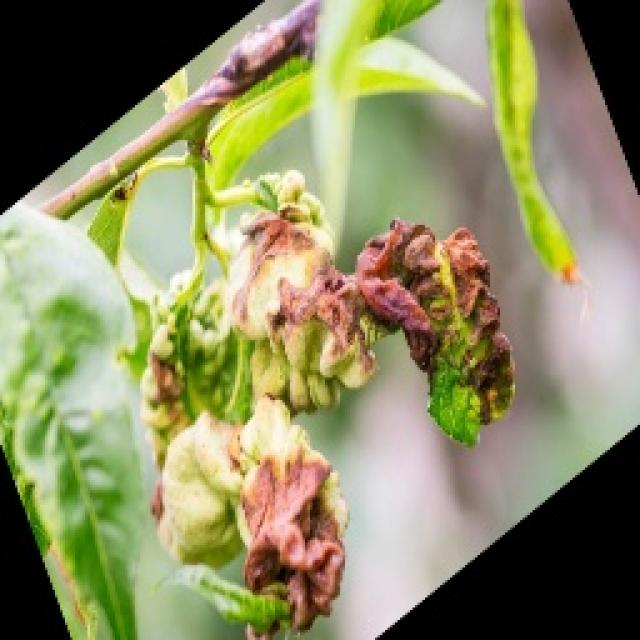peach_leaf_curl: (135, 168, 515, 638)
